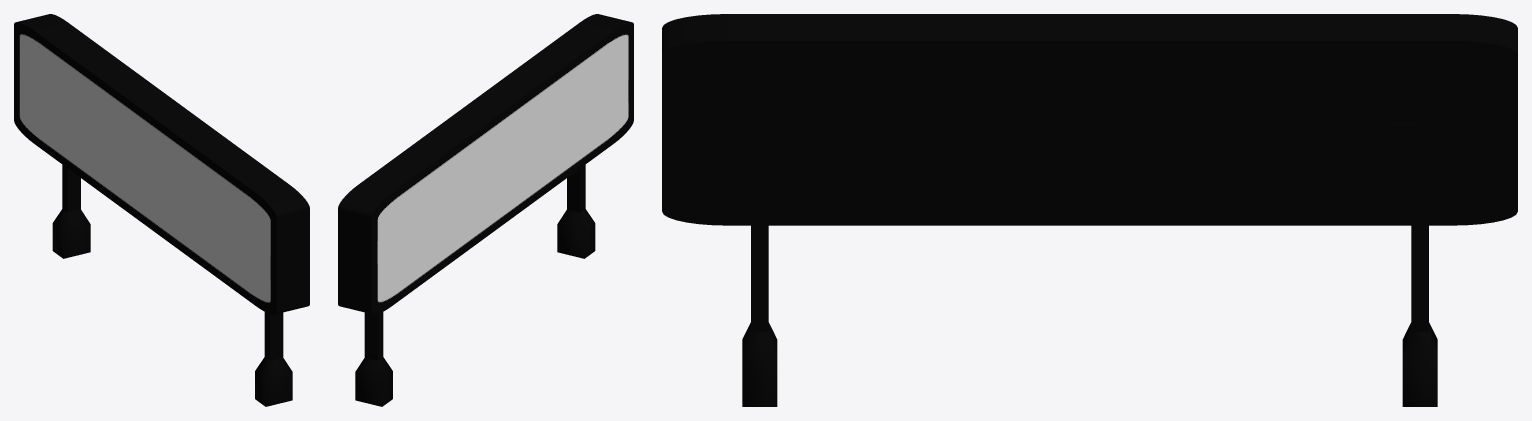
File: road_sign.glb
3 views of the same model, side by side, from view 1: azimuth 30°, elevation 25°; view 2: azimuth 150°, elevation 25°; view 3: azimuth 270°, elevation 25° (orthographic). The views are drawn at different scales.
Parts seen in each view (by area): view 1: Cube; view 2: Cube; view 3: Cube.
Boxes of the visible parts, x1=… form: Cube: x1=14, y1=14, x2=309, y2=406; Cube: x1=338, y1=14, x2=633, y2=406; Cube: x1=662, y1=14, x2=1517, y2=406.
Bounding box in the file's own units: 0.0763 × 0.39 × 0.84.
1 material, 1 textured.
